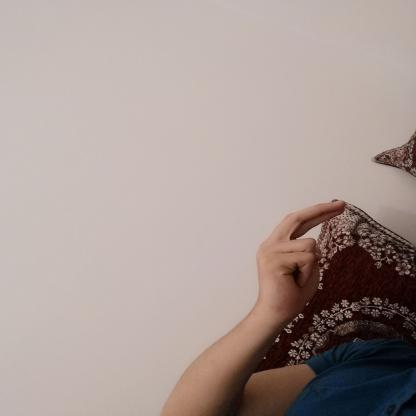ZAY: (246, 191, 356, 320)
